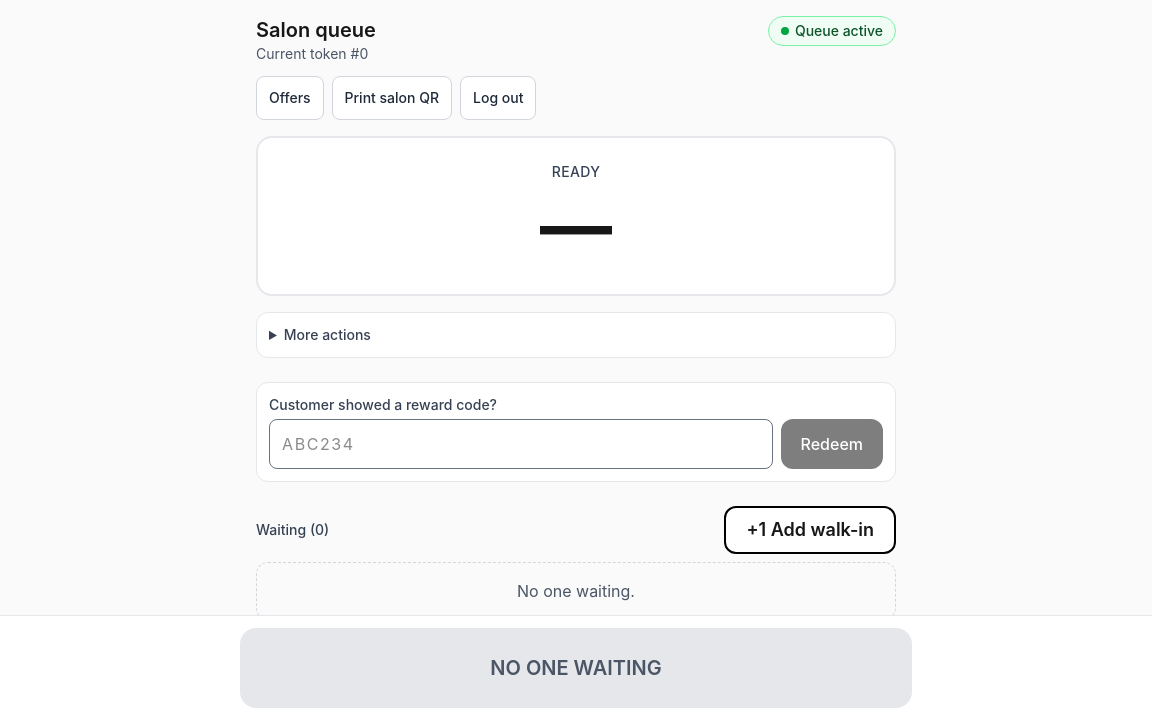
Test case: BarberDashboard: redeem a reward code › redeems a code, shows the prize and clears the box
The image size is (1152, 720).
In the field labelled "Customer showed a reward code?": (521, 444) [269, 419, 772, 469], type "abc234"
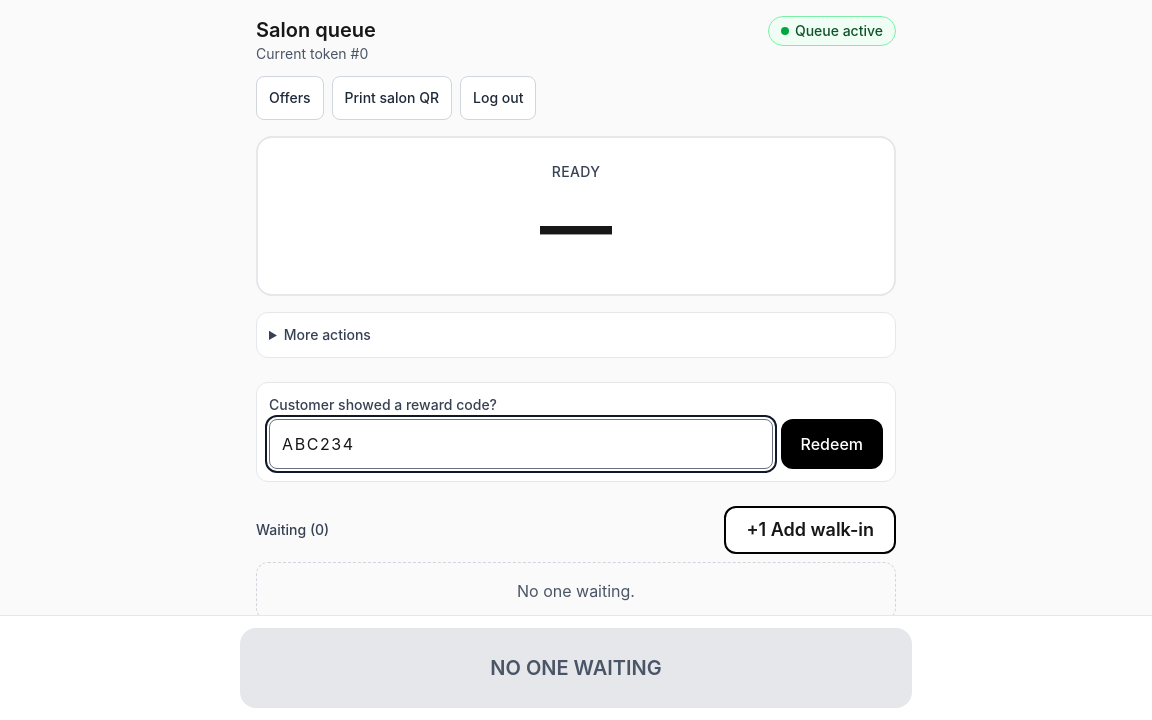
Click the button "Redeem": (832, 444) [780, 419, 883, 469]
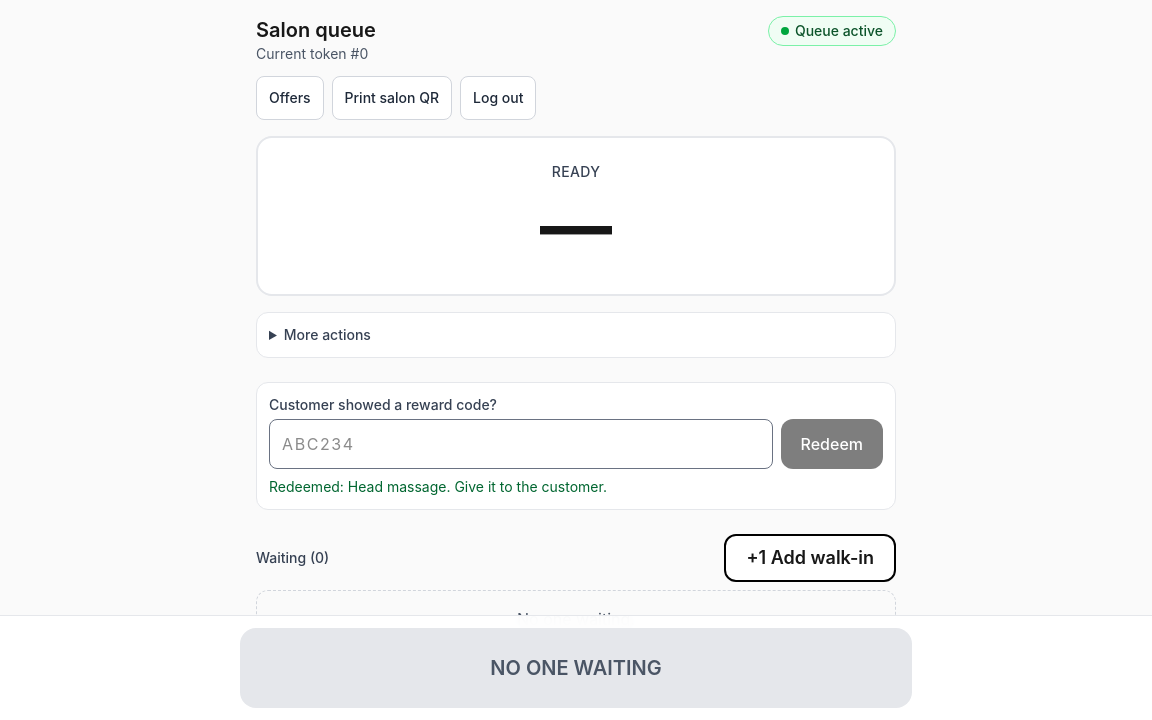
Now the message shows "Redeemed: Head massage", box [269, 478, 607, 495]
Now the field labelled "Customer showed a reward code?" is empty, box [269, 419, 772, 469]
